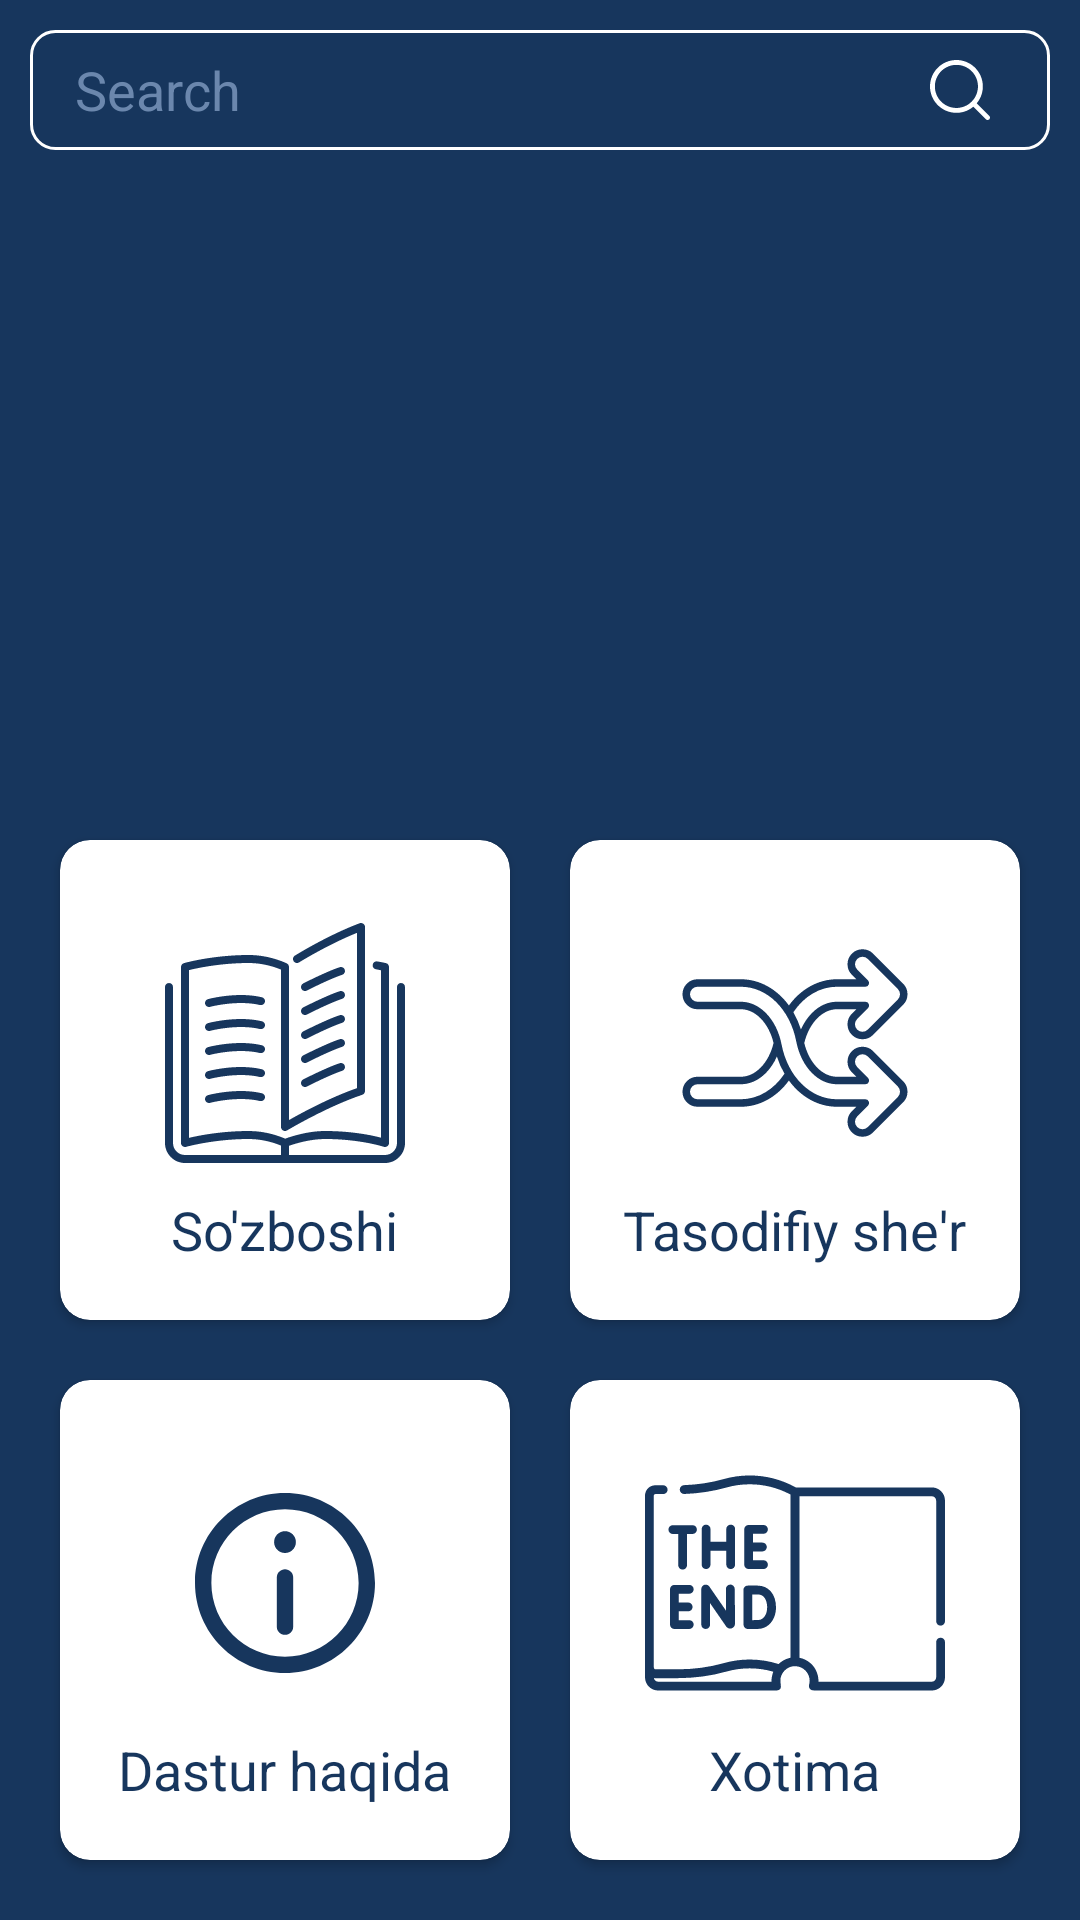

Icons on this 1080*1920 Android screen, each with the point to tap as point (x, y):
information: point (285, 1583)
